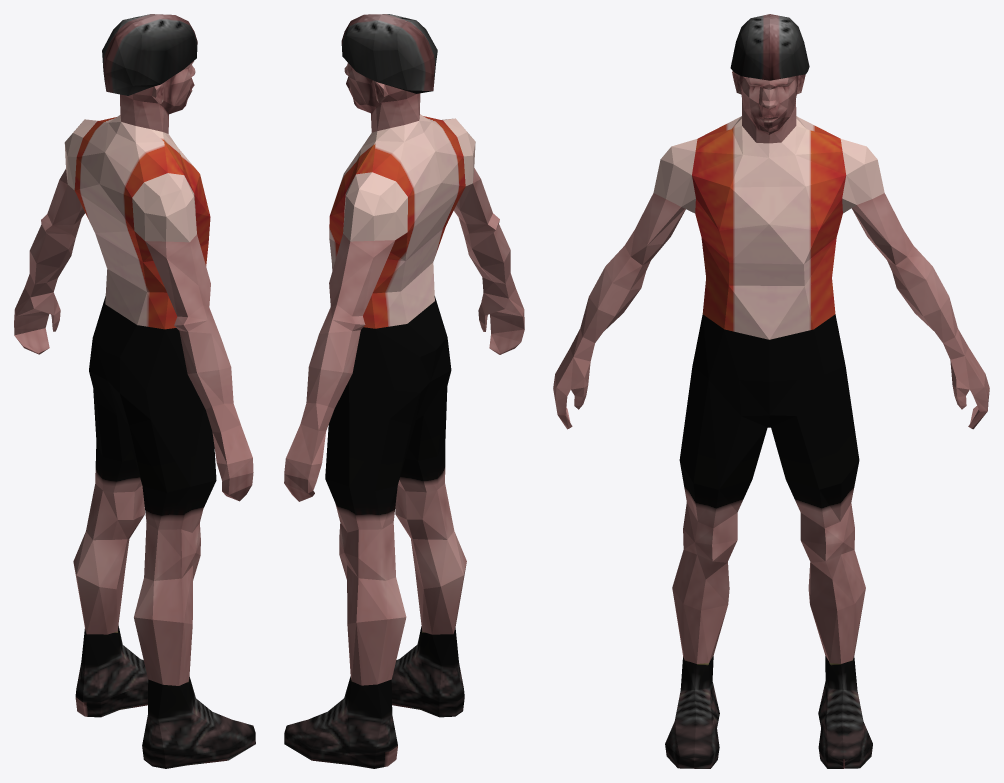
File: wmymoun.obj
3 renders of one model, left to right at view 1: azimuth 30°, elevation 25°; view 2: azimuth 150°, elevation 25°; view 3: azimuth 270°, elevation 25°, orthographic.
Parts seen in each view (by area): view 1: _Pelvis; view 2: _Pelvis; view 3: _Pelvis.
Part boxes in pixels (x1,y1,x2,y2): _Pelvis: [14, 14, 255, 768]; _Pelvis: [284, 14, 524, 768]; _Pelvis: [553, 14, 989, 768].
Size of the model in its own units: 0.3277 by 1.87 by 1.02.
Materials: 1 (1 with a texture image).
